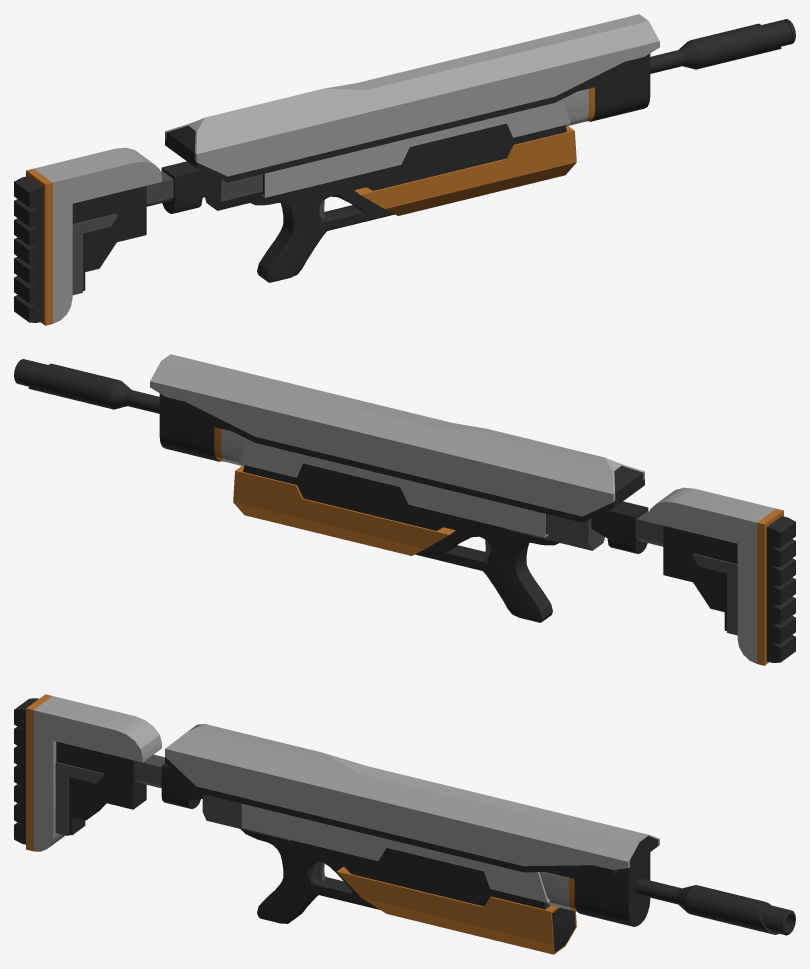
File: quaternius-modular-sci-fi-guns-sniper-2.glb
The picture shows the model from 3 angles, top to bottom: view 1: azimuth 30°, elevation 25°; view 2: azimuth 150°, elevation 25°; view 3: azimuth 330°, elevation 25°; orthographic projection.
Visible parts, largest first — view 1: Sniper_2; view 2: Sniper_2; view 3: Sniper_2.
Part boxes in pixels (bbox=[...]): Sniper_2: bbox=[14, 14, 795, 325]; Sniper_2: bbox=[14, 354, 795, 665]; Sniper_2: bbox=[14, 694, 795, 954].
Bounding box in the file's own units: 2.51 × 0.552 × 0.1784.
